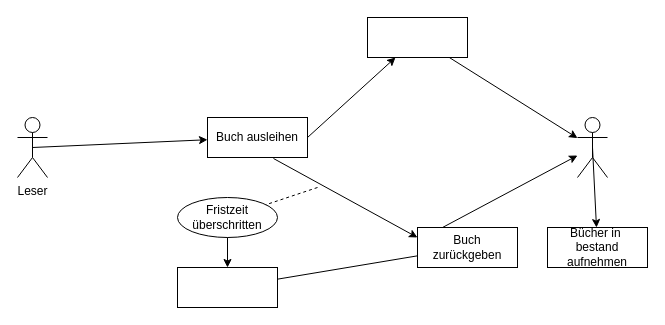
This 665x325 diagram has some shape labels left out. The centre of each missing label's shape, as x and y in pixels:
"Bibliothekar" belongs at (592,147).
"Standort des Buches suchen" belongs at (417,37).
"Strafgebühr bezahlen" belongs at (227,287).
